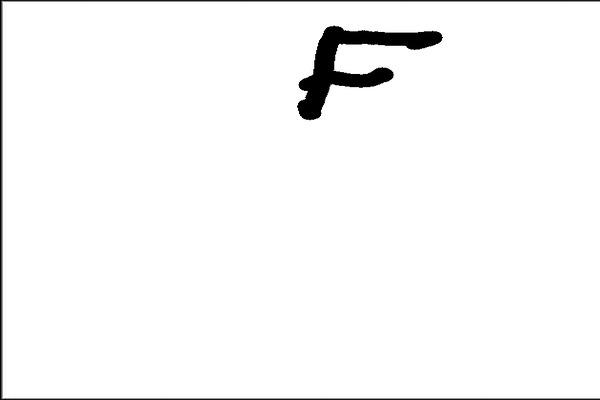F: (291, 22, 445, 124)
